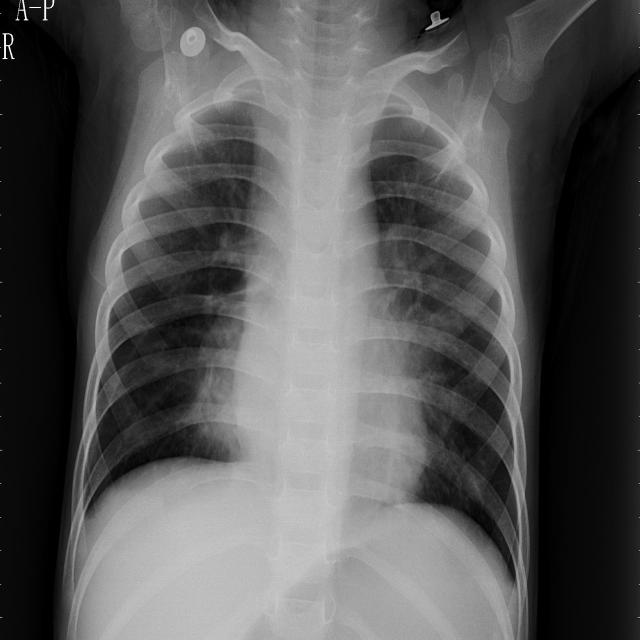low-pneumonia: (383, 227, 459, 407), (180, 289, 248, 465)
